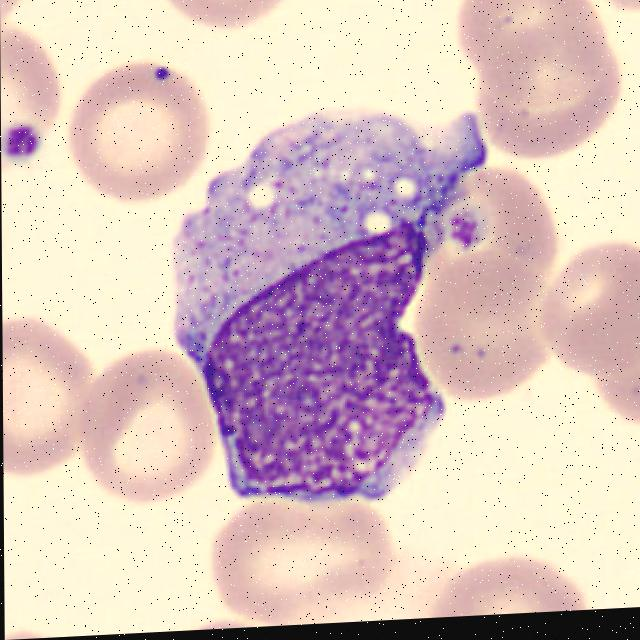monocyte: (149, 93, 510, 515)
platelets: (437, 199, 493, 263), (1, 115, 42, 175)
rbc: (211, 481, 410, 626), (406, 245, 557, 415), (426, 153, 566, 326), (471, 16, 621, 164), (84, 340, 211, 511), (75, 57, 209, 204), (445, 0, 612, 103), (2, 303, 91, 486), (539, 229, 640, 376), (425, 543, 597, 618), (0, 19, 66, 148), (586, 311, 640, 453), (157, 0, 304, 36), (173, 608, 287, 631), (583, 0, 640, 18)
